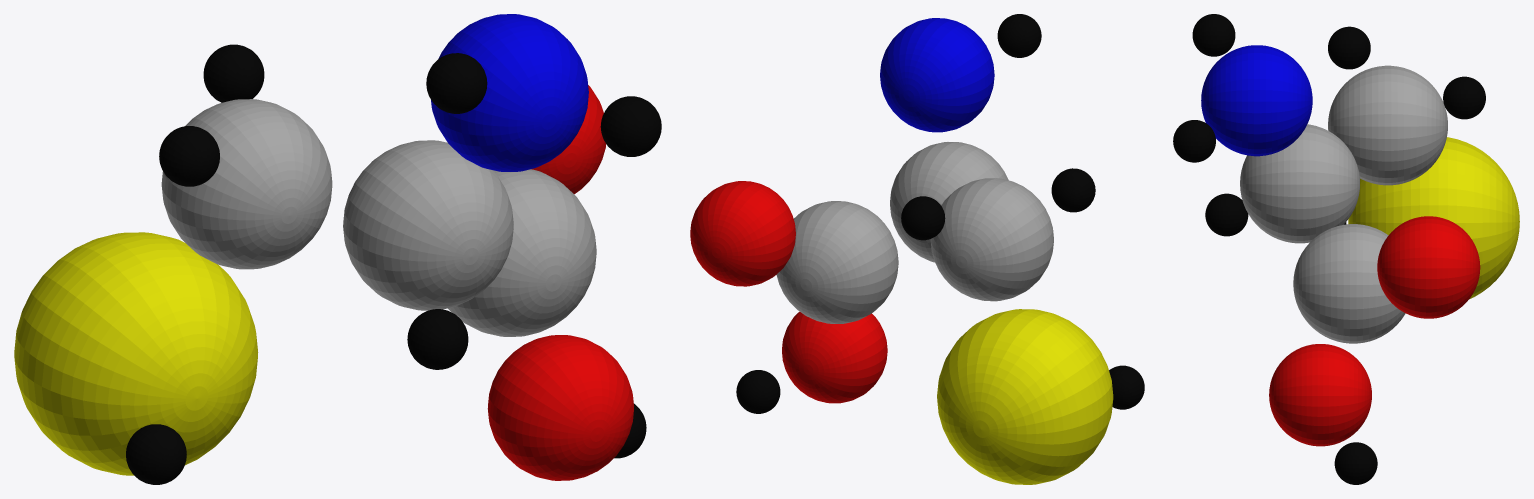
The model's file is Cysteine.glb.
The picture shows the model from 3 angles, left to right: view 1: azimuth 30°, elevation 25°; view 2: azimuth 150°, elevation 25°; view 3: azimuth 270°, elevation 25°; orthographic projection. The views are drawn at different scales.
Parts seen in each view (by area): view 1: world; view 2: world; view 3: world.
Part boxes in pixels (box(x1,y1,x2,y2)): world: box(14, 14, 661, 484); world: box(690, 14, 1144, 484); world: box(1173, 14, 1519, 484).
Bounding box in the file's own units: 5.33 × 4.85 × 4.04.
